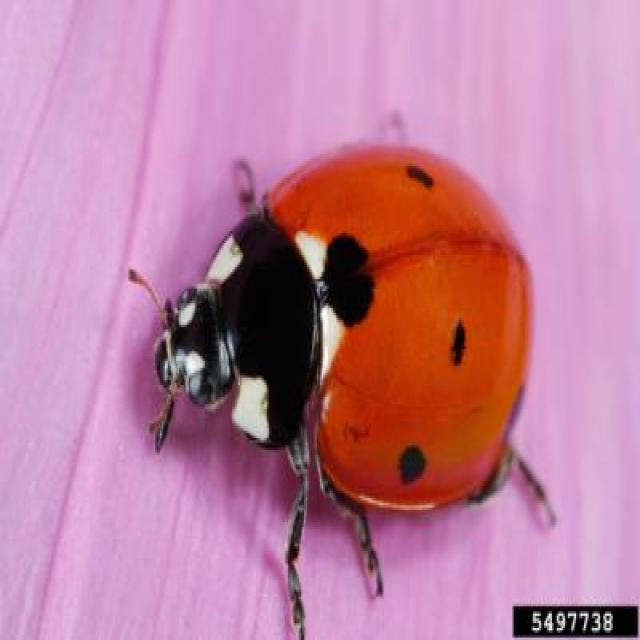antennae: (140, 382, 178, 463), (128, 254, 166, 326)
body: (156, 141, 535, 512)
insect: (124, 102, 564, 640)
legs: (268, 441, 395, 640), (494, 434, 570, 534)
mouthpart: (144, 314, 196, 397)
wings: (263, 143, 534, 512)
